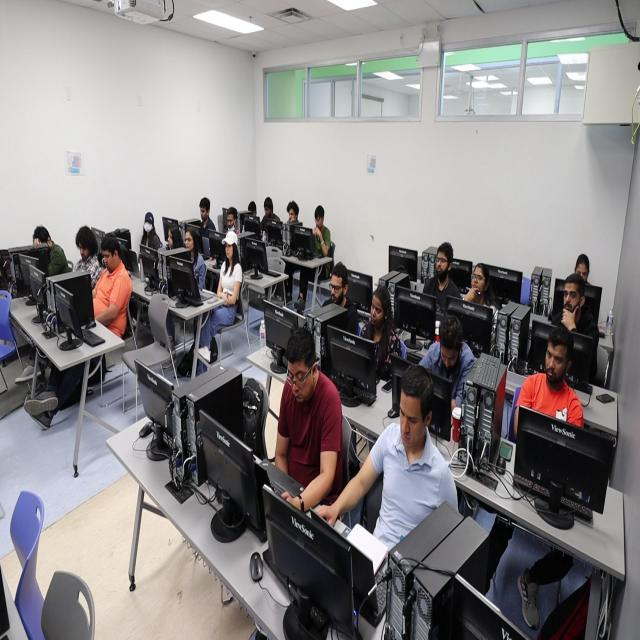Looking away: (400, 389, 422, 448), (288, 360, 312, 402), (440, 340, 460, 370), (330, 274, 344, 304), (574, 260, 590, 283), (102, 248, 115, 273), (78, 242, 90, 260), (166, 228, 174, 248), (315, 213, 323, 230), (227, 212, 235, 228), (200, 206, 207, 221), (264, 205, 271, 218)
Looking forward: (544, 340, 568, 383), (562, 280, 580, 312), (370, 293, 385, 325), (470, 264, 486, 292), (435, 250, 448, 276), (184, 231, 194, 251), (225, 243, 233, 259), (288, 208, 296, 222)
